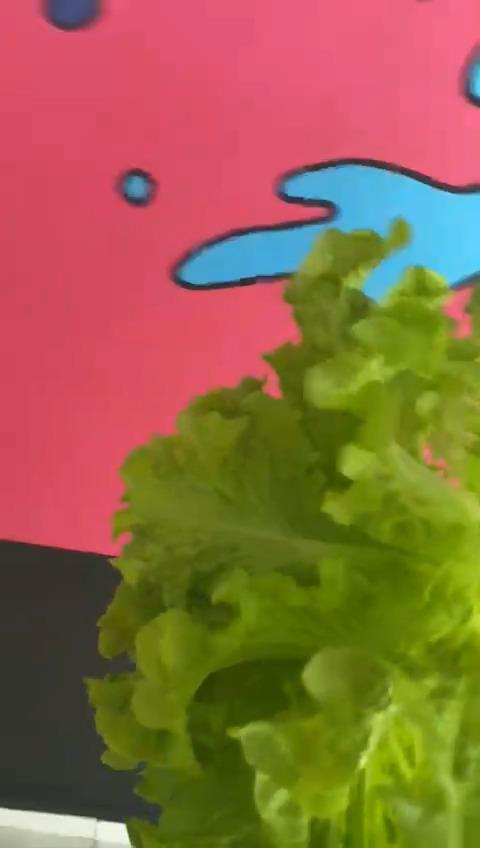Healthy: (85, 217, 480, 848)
